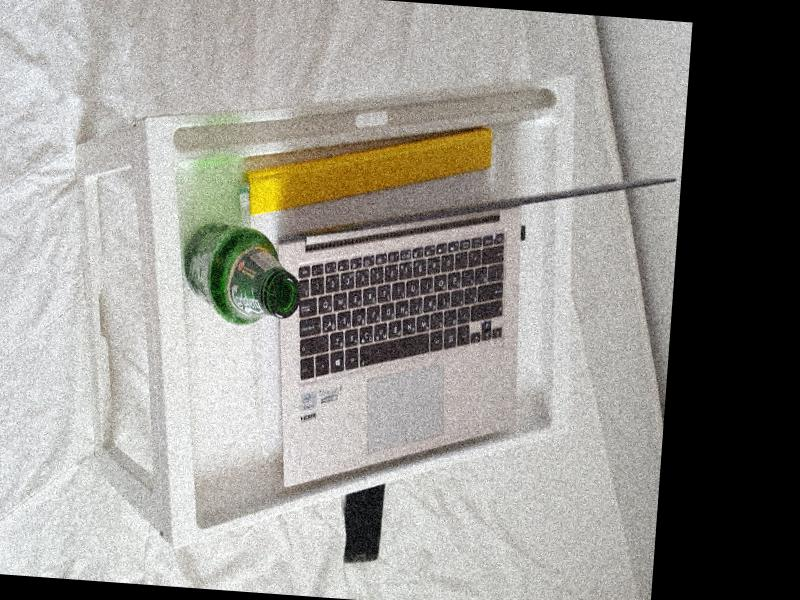Beer: (178, 221, 303, 329)
